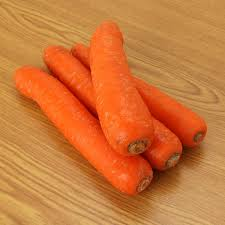carrot: (31, 42, 180, 172), (15, 68, 149, 190), (104, 53, 219, 153), (84, 21, 145, 150)
